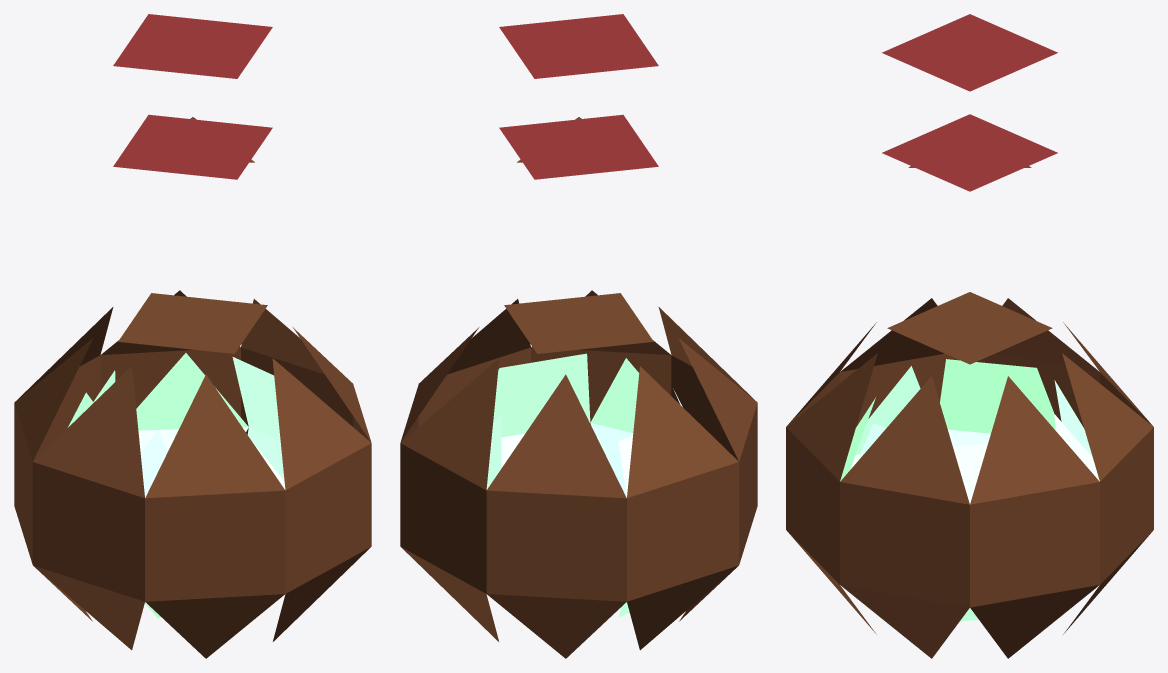
Rendered from prop_potion_bottle_lod1.glb.
3 renders of one model, left to right at view 1: azimuth 30°, elevation 25°; view 2: azimuth 150°, elevation 25°; view 3: azimuth 270°, elevation 25°, orthographic.
Visible parts, largest first — view 1: prop_potion_bottle_lod1; view 2: prop_potion_bottle_lod1; view 3: prop_potion_bottle_lod1.
Part boxes in pixels (bbox=[...]): prop_potion_bottle_lod1: bbox=[14, 14, 371, 658]; prop_potion_bottle_lod1: bbox=[400, 14, 757, 658]; prop_potion_bottle_lod1: bbox=[786, 14, 1153, 658].
Size of the model in its own units: 0.1331 by 0.2266 by 0.1331.
